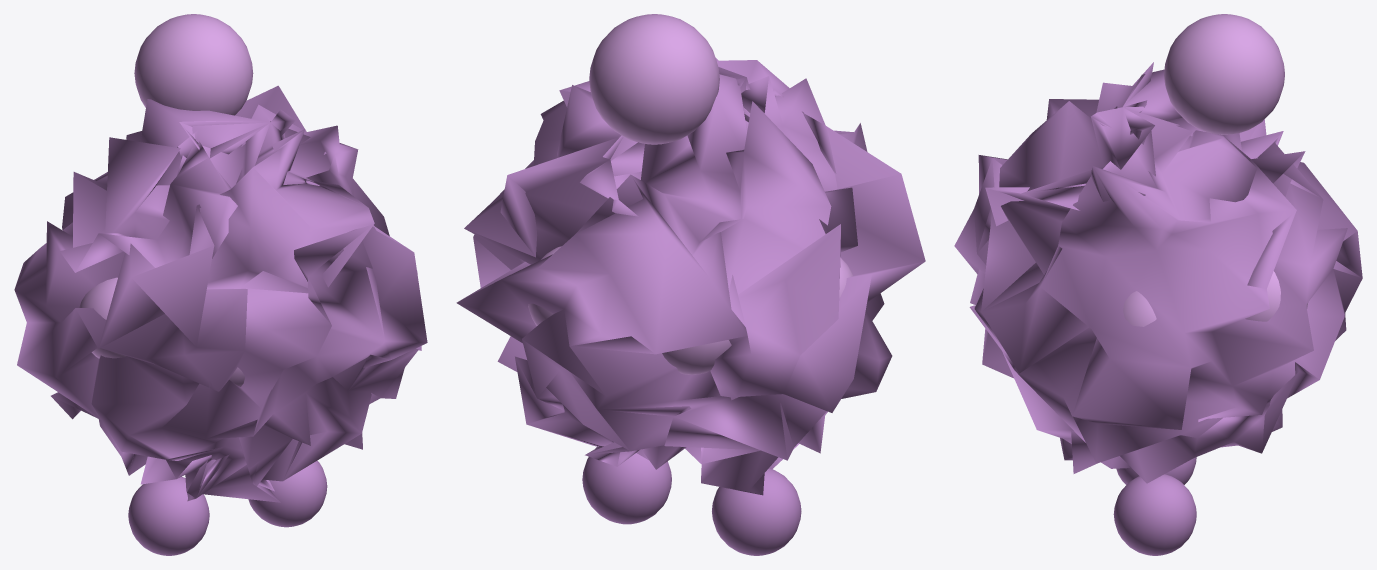
The model's file is clay_pop_bubble.glb.
3 renders of one model, left to right at view 1: azimuth 30°, elevation 25°; view 2: azimuth 150°, elevation 25°; view 3: azimuth 270°, elevation 25°, orthographic. The views are drawn at different scales.
Parts seen in each view (by area): view 1: leg.001; view 2: leg.001; view 3: leg.001.
Boxes of the visible parts, x1,y1,x2,y2 form: leg.001: (14,14,427,555); leg.001: (456,14,925,555); leg.001: (954,14,1362,555).
Bounding box in the file's own units: 1.32 × 1.76 × 1.3.
